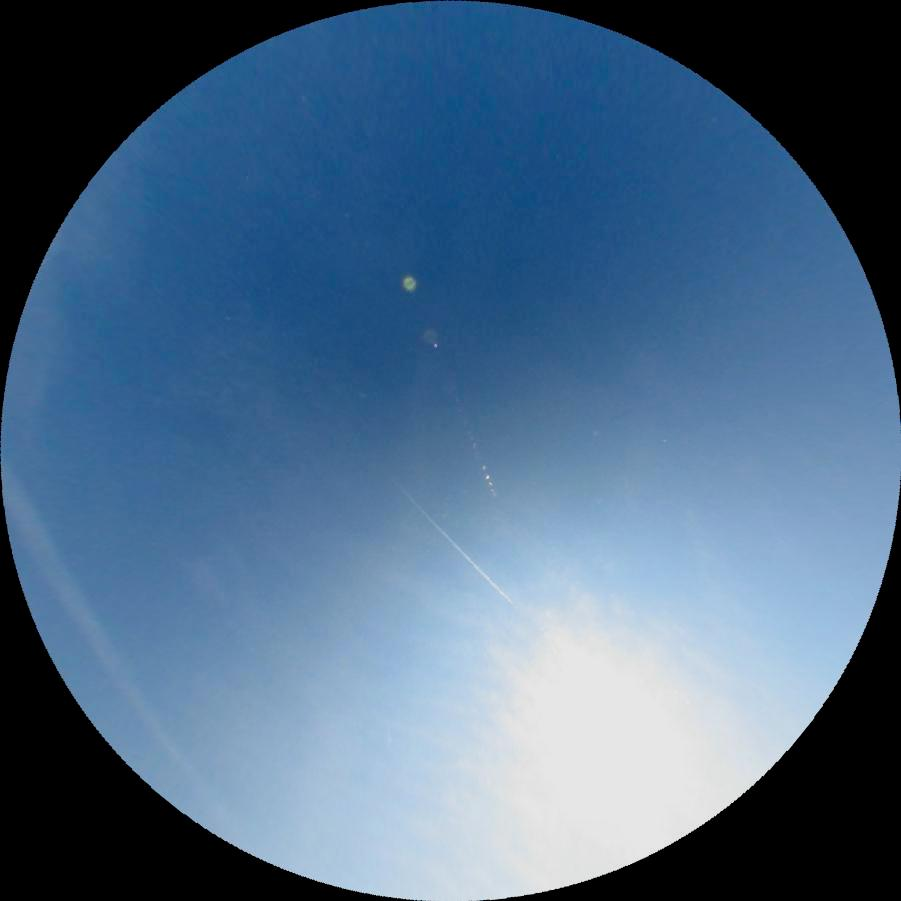contrail veryold: (0, 461, 240, 845)
contrail young: (377, 466, 514, 605), (384, 720, 392, 744)
